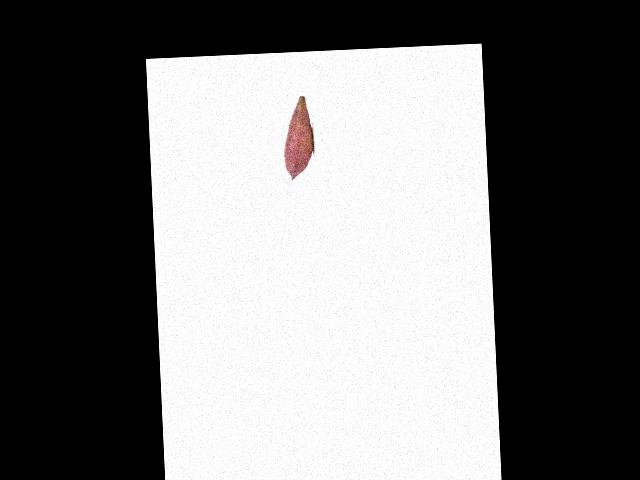sweet_potato: (281, 95, 313, 180)
